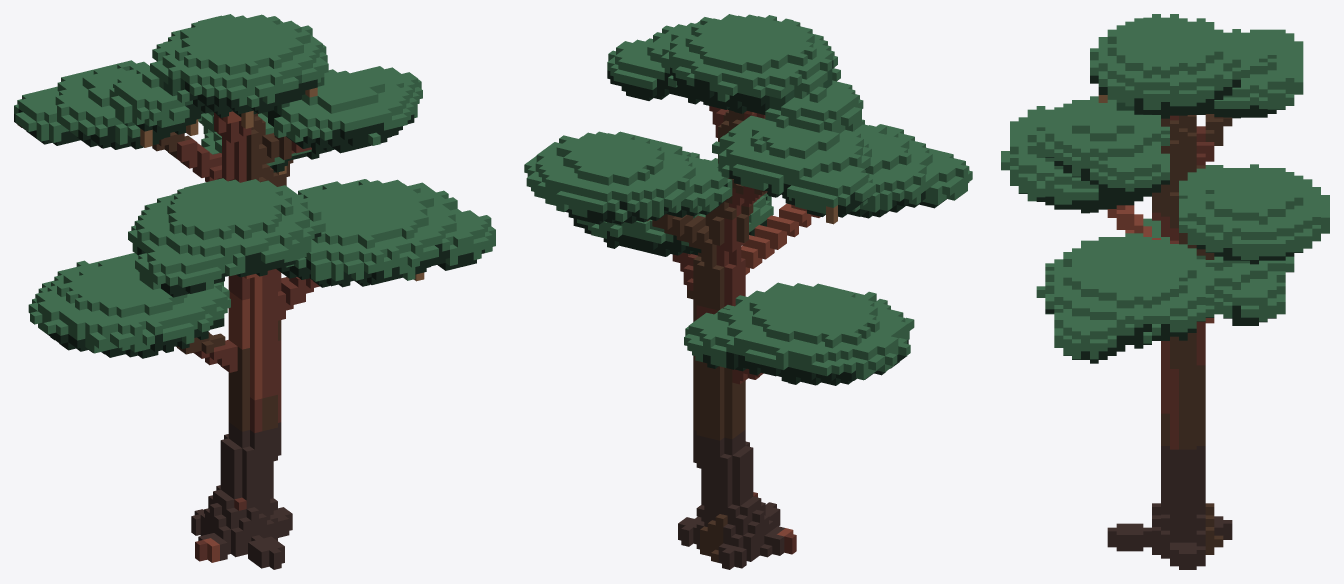
The model's file is Mountain_Pine_v2.fbx.
3 renders of one model, left to right at view 1: azimuth 30°, elevation 25°; view 2: azimuth 150°, elevation 25°; view 3: azimuth 270°, elevation 25°, orthographic.
Visible parts, largest first — view 1: Mountain_Pine_v2; view 2: Mountain_Pine_v2; view 3: Mountain_Pine_v2.
Part boxes in pixels (x1,y1,x2,y2): Mountain_Pine_v2: (14,14,495,569); Mountain_Pine_v2: (524,14,972,569); Mountain_Pine_v2: (1001,14,1329,569).
Size of the model in its own units: 3.27 by 4.13 by 2.47.
1 material, 1 textured.
